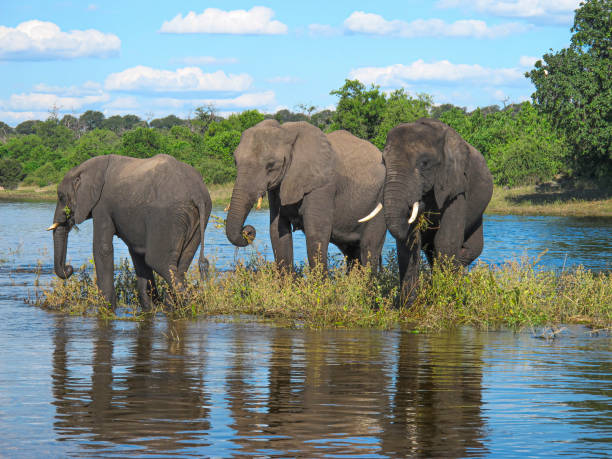africanelephant: (215, 107, 307, 259)
